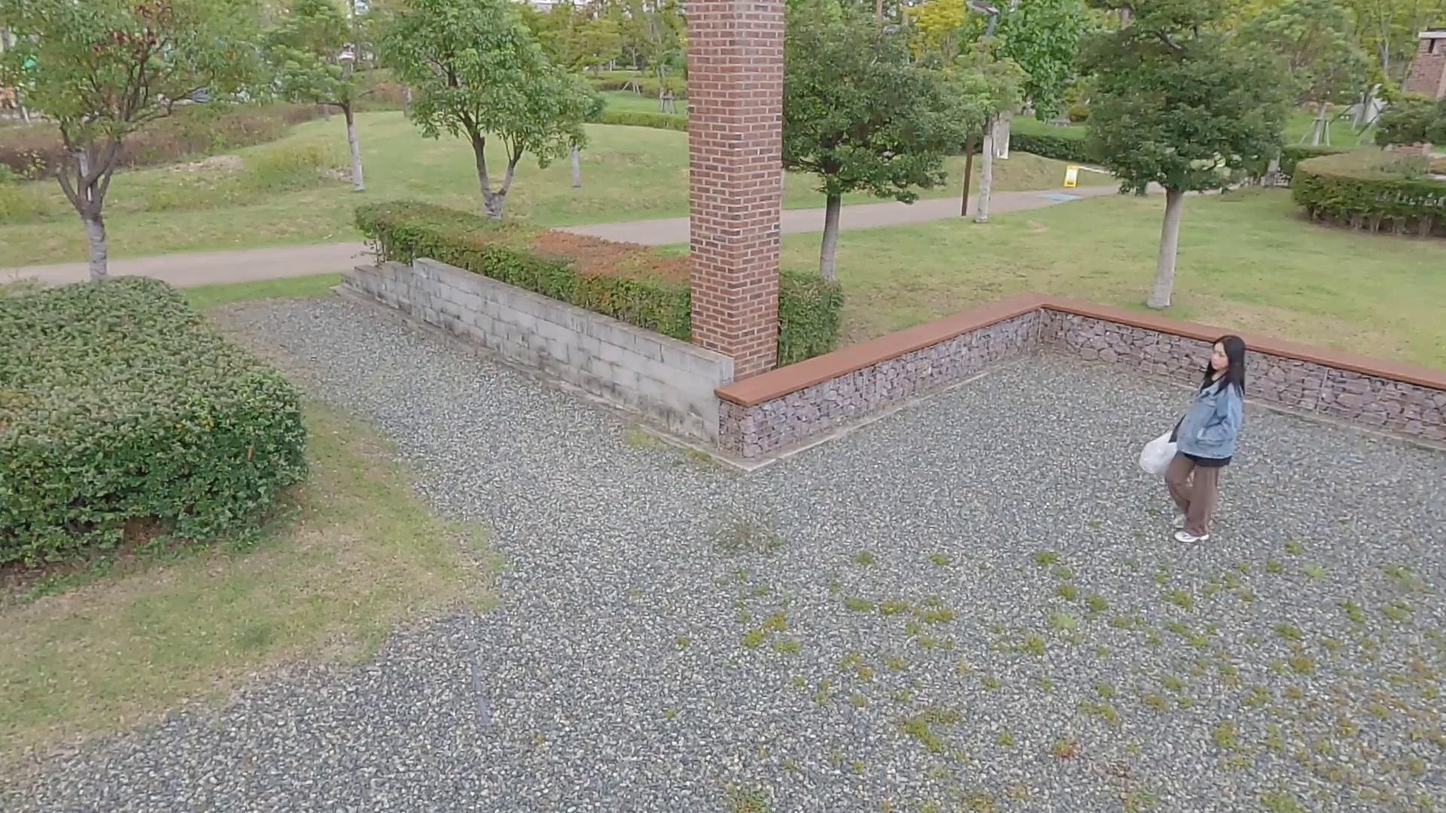person: (1156, 335, 1251, 550)
trash: (1139, 431, 1179, 482)
